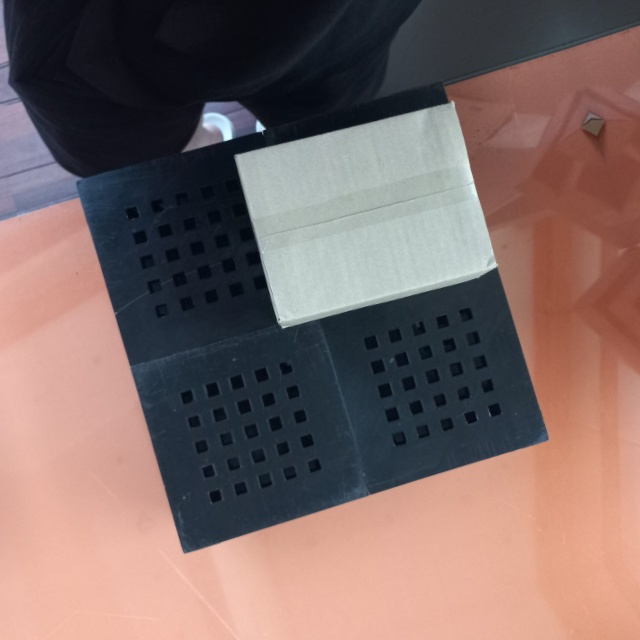box: (231, 94, 496, 333)
pallet: (67, 84, 560, 563)
